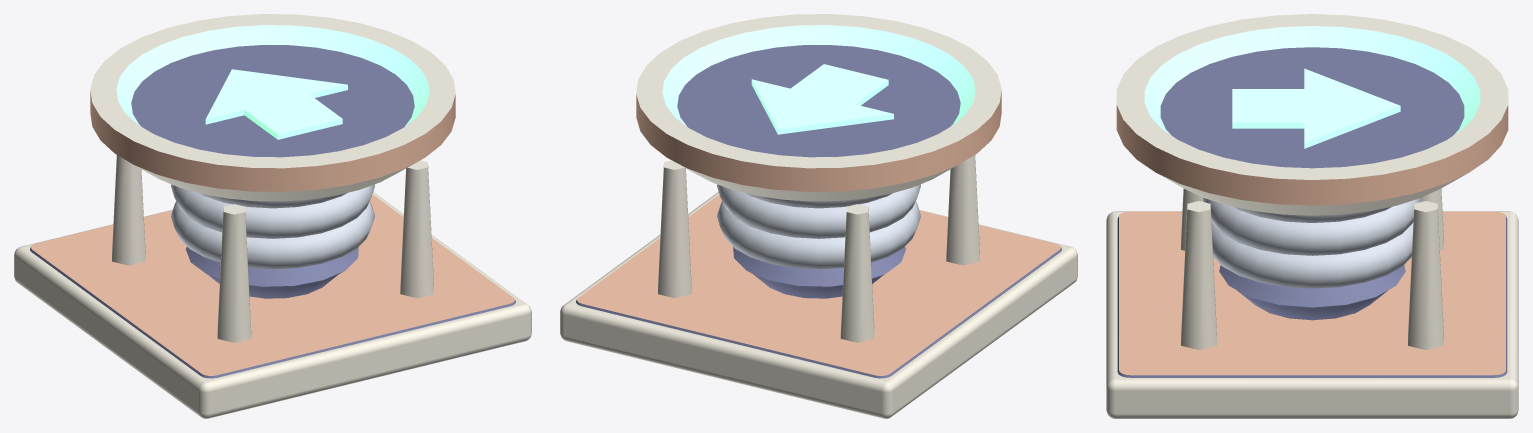
File: R4X_JumpPadDeployer.fbx
The picture shows the model from 3 angles, left to right: view 1: azimuth 30°, elevation 25°; view 2: azimuth 150°, elevation 25°; view 3: azimuth 270°, elevation 25°; orthographic projection. The views are drawn at different scales.
Visible parts, largest first — view 1: R4X_JumpPadDeployer_Body, R4X_JumpPadDeployer_Pad; view 2: R4X_JumpPadDeployer_Body, R4X_JumpPadDeployer_Pad; view 3: R4X_JumpPadDeployer_Body, R4X_JumpPadDeployer_Pad.
Part boxes in pixels (x1,y1,x2,y2): R4X_JumpPadDeployer_Body: [14, 155, 531, 418]; R4X_JumpPadDeployer_Pad: [90, 14, 455, 201]; R4X_JumpPadDeployer_Body: [560, 155, 1077, 418]; R4X_JumpPadDeployer_Pad: [636, 14, 1001, 201]; R4X_JumpPadDeployer_Body: [1106, 188, 1518, 418]; R4X_JumpPadDeployer_Pad: [1116, 14, 1508, 215].
Size of the model in its own units: 0.514 by 0.33 by 0.514.
